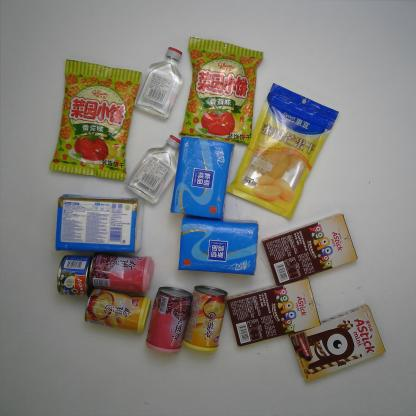Alcohol: (124, 134, 182, 206), (132, 46, 184, 121)
Canned Food: (182, 284, 232, 354), (83, 286, 151, 336), (144, 286, 193, 355), (87, 253, 156, 298), (53, 251, 96, 300)
Dessert: (289, 302, 386, 382), (262, 212, 358, 286), (226, 276, 321, 347)
Dried Fruit: (224, 81, 340, 222)
Puffed Food: (49, 58, 144, 181), (178, 36, 266, 147)
Tissue: (168, 135, 236, 221), (52, 192, 143, 256), (177, 215, 260, 277)
